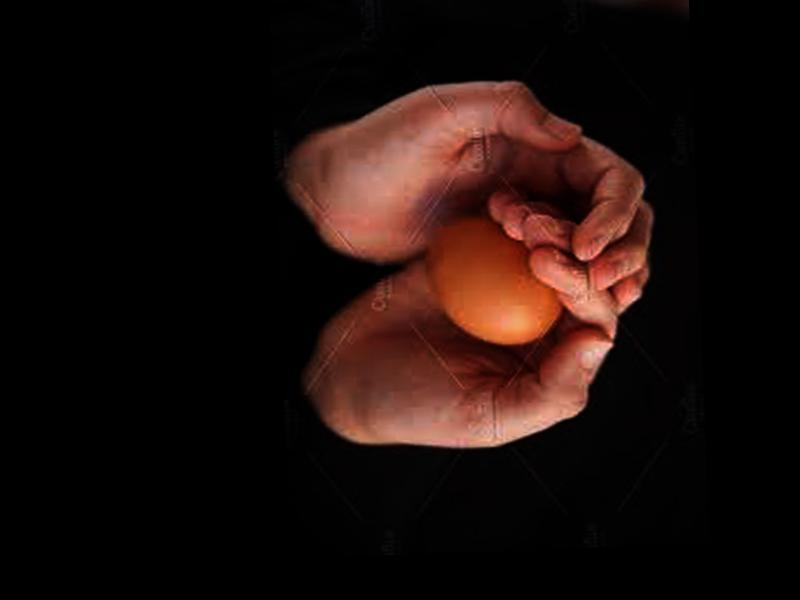Eggs: (423, 206, 559, 349)
